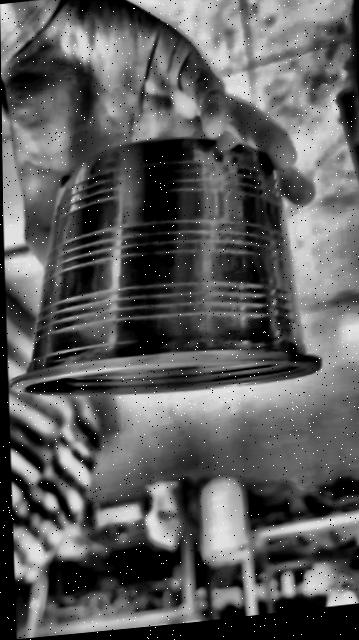pot: (10, 138, 319, 395)
